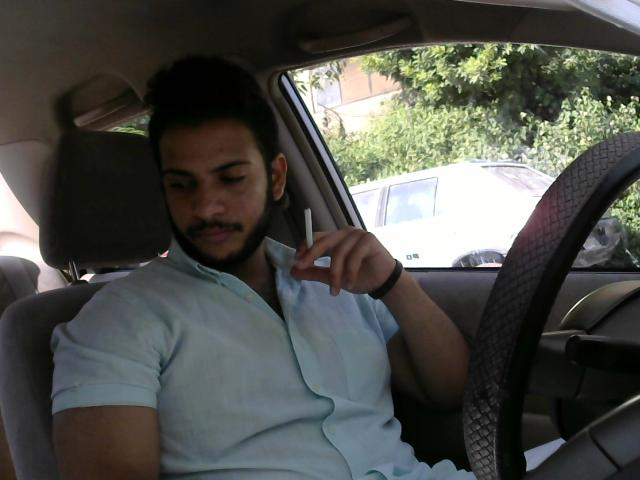Smoking: (301, 208, 321, 277)
